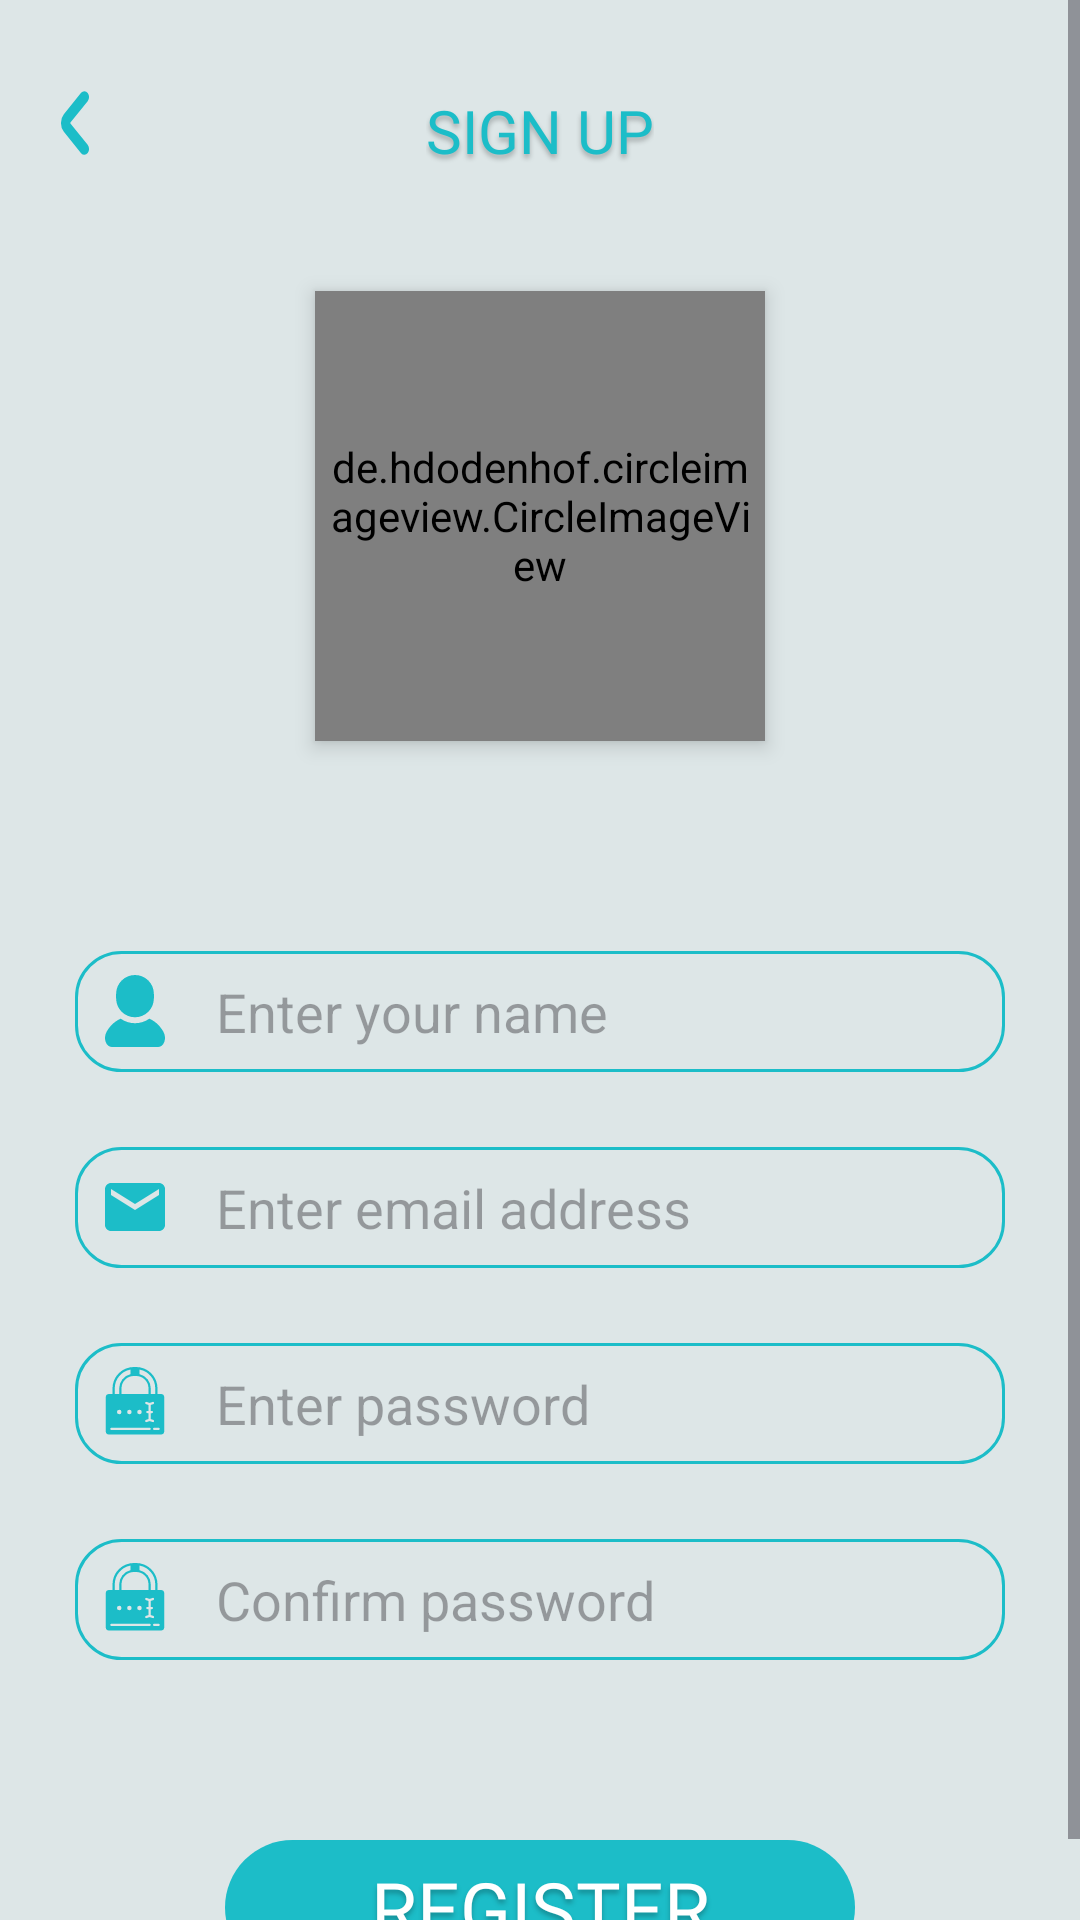

Icon bounding boxes for this 1080w x 1920h phone screenshot, format (x1, y1, x2, y2):
arrow left: (61, 91, 89, 155)
